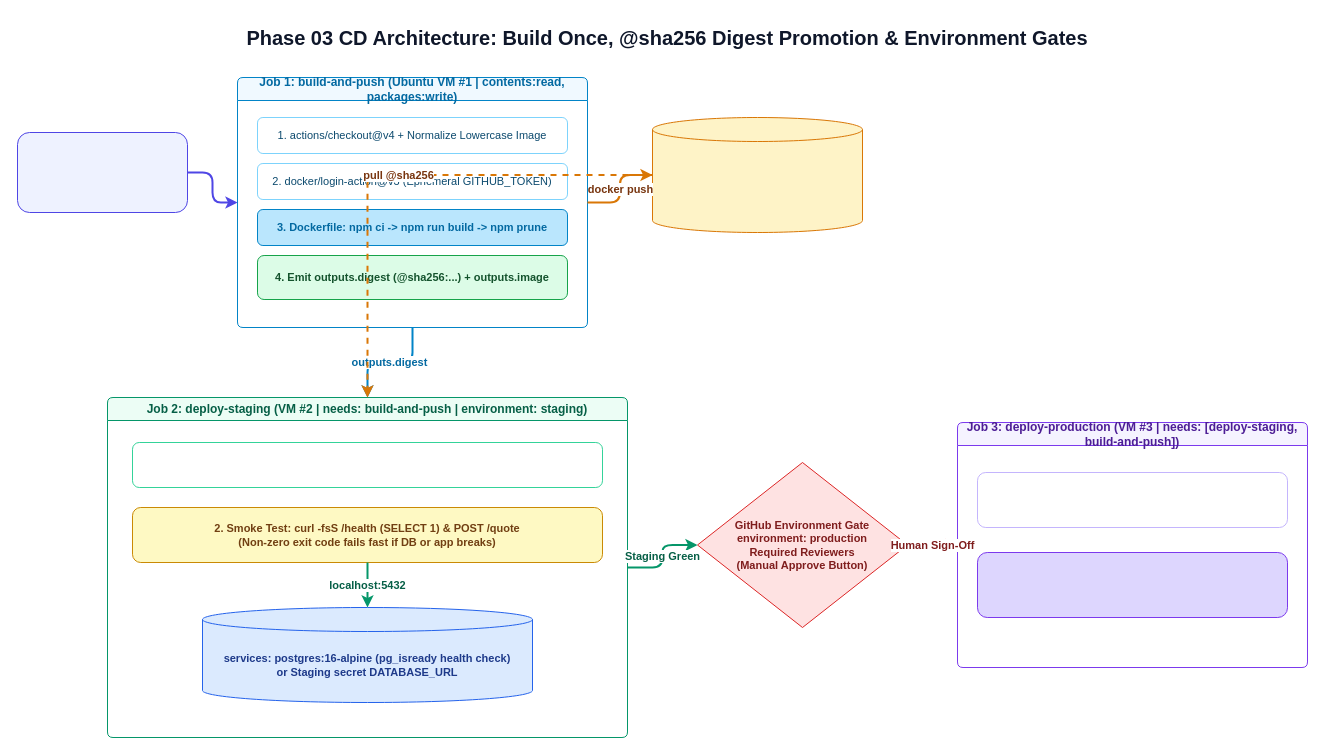
Image size: 1325x755. Some labels were removed from this diagram. Each missing label, with the centre of its shape:
"1. Pull exact image@sha256 + Boot with -e DATABASE_URL (12-Factor)" goes at point 367,465.
"1. Receives Production secrets.DATABASE_URL from environment: production" goes at point 1132,500.
"2. Promotes exact verified bytes: image@sha256 (Bit-for-bit Staging parity)" goes at point 1132,585.
"GHCR (ghcr.io) Immutable Image Warehouse pricing-service@sha256:..." goes at point 757,174.
"Git Release Tag Push tags: ['v*.*.*'] (Ignores Branch Commits)" goes at point 102,172.
